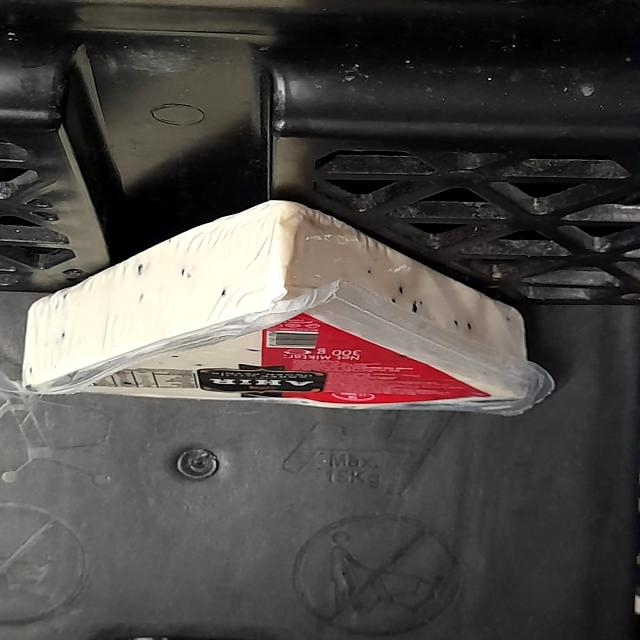cheese: (8, 203, 575, 423)
